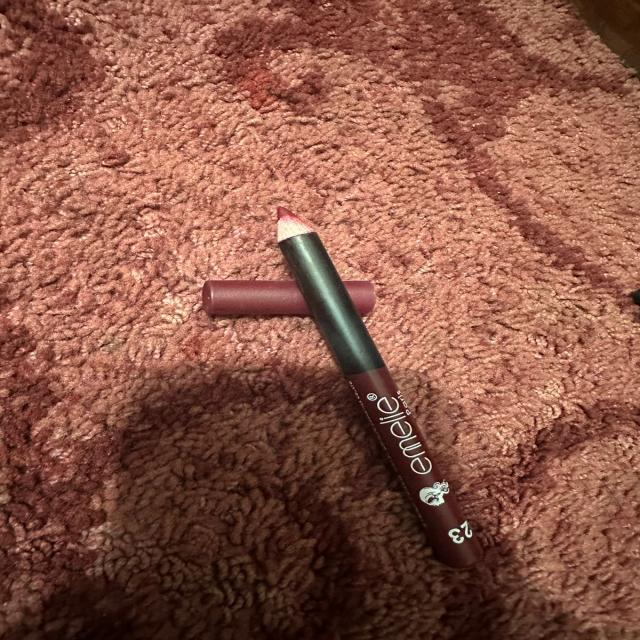lip liner: (252, 194, 536, 580)
